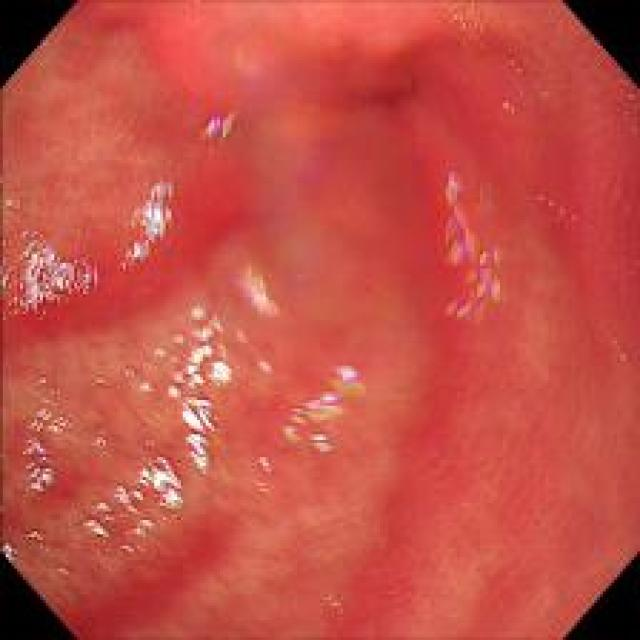color misalignment: (434, 164, 512, 320), (282, 346, 374, 468), (14, 229, 99, 314), (225, 251, 300, 329), (194, 106, 239, 144)
specularity: (10, 214, 110, 318), (152, 335, 226, 470), (15, 389, 75, 501), (112, 448, 195, 520), (112, 175, 176, 268), (82, 502, 148, 554), (186, 304, 228, 348), (448, 4, 486, 46), (534, 191, 580, 225), (0, 190, 20, 218), (252, 355, 275, 378), (88, 428, 110, 452), (22, 529, 48, 544), (256, 455, 275, 475), (138, 379, 158, 396), (501, 99, 518, 118), (1, 262, 12, 290), (1, 540, 15, 560), (49, 565, 68, 579)
